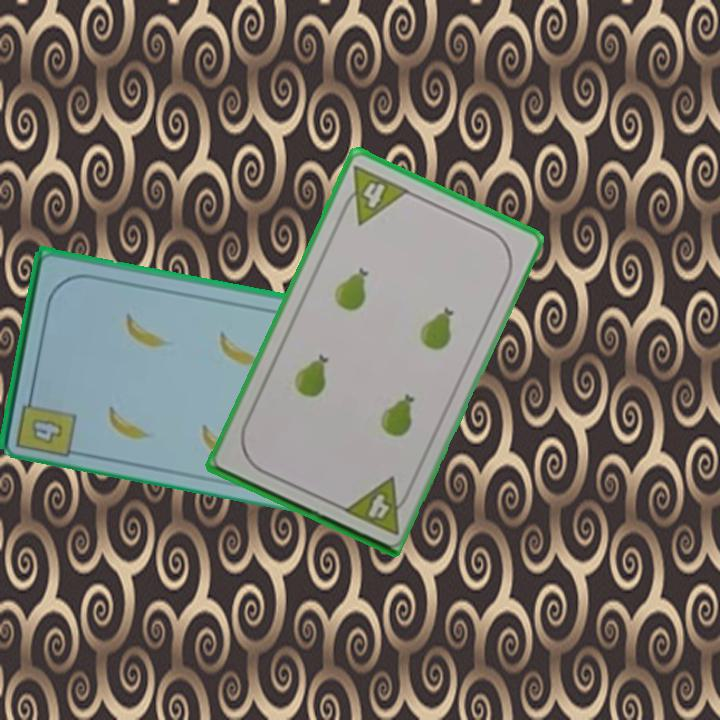4b: (12, 386, 79, 459)
4p: (335, 161, 412, 228), (338, 473, 415, 538)
